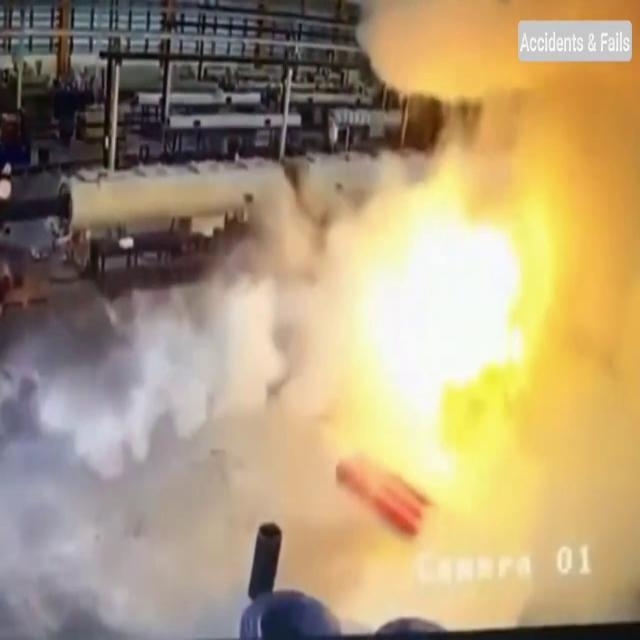Fire: (324, 140, 560, 446)
Smoke: (0, 199, 370, 517), (535, 22, 640, 596)
